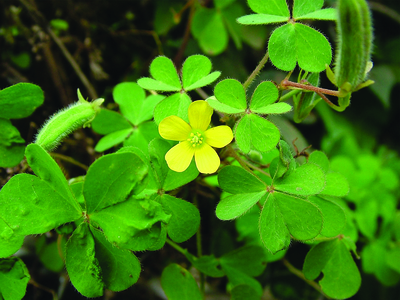oxalis: (39, 24, 361, 266)
